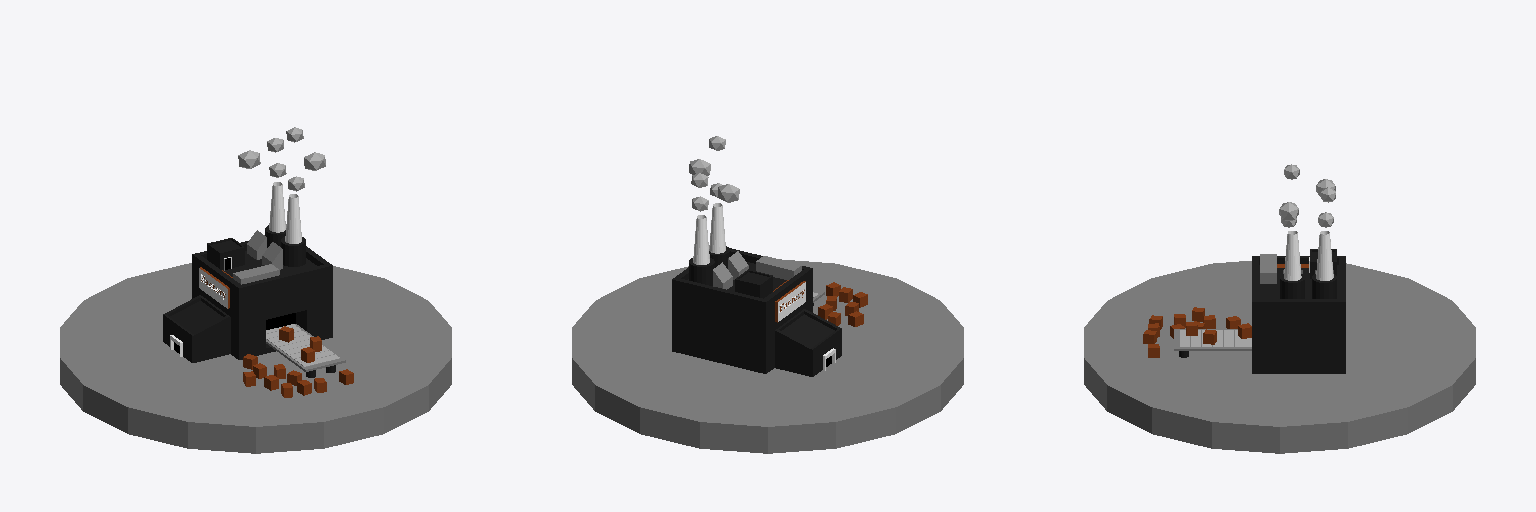
File: Factory_1266.obj
3 views of the same model, side by side, from view 1: azimuth 30°, elevation 25°; view 2: azimuth 150°, elevation 25°; view 3: azimuth 270°, elevation 25° (orthographic).
Visible parts, largest first — view 1: GeoSphere003; view 2: GeoSphere003; view 3: GeoSphere003.
Part boxes in pixels (x1,y1,x2,y2): GeoSphere003: (60,127,451,453); GeoSphere003: (572,136,963,453); GeoSphere003: (1084,164,1475,453).
Bounding box in the file's own units: 157 × 98.83 × 155.